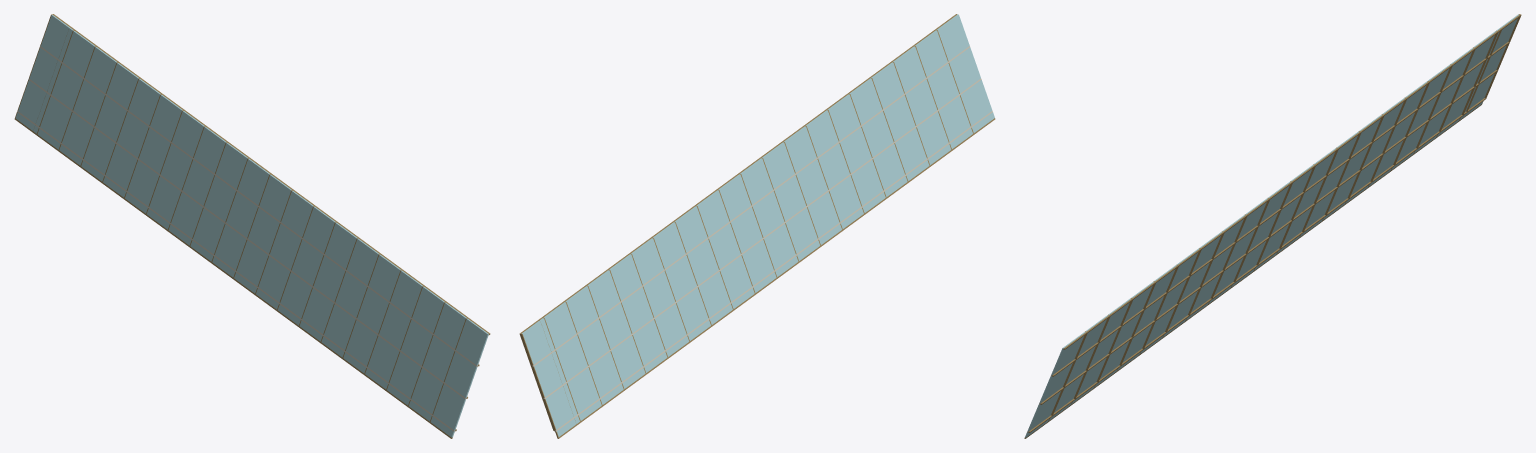
The model's file is G7_Completion_R008_Body_-1_02.glb.
3 renders of one model, left to right at view 1: azimuth 30°, elevation 25°; view 2: azimuth 150°, elevation 25°; view 3: azimuth 330°, elevation 25°, orthographic. The views are drawn at different scales.
Visible parts, largest first — view 1: Body_-1_02_G7C3_glass_solid_skin, Body_-1_02_G7C3_metal_solid_skin, Body_-1_02_G7C3_shell_solid_skin, Body_-1_02_G7C3_metal_solid_frame; view 2: Body_-1_02_G7C3_glass_solid_skin, Body_-1_02_G7C3_metal_solid_skin, Body_-1_02_G7C3_shell_solid_skin, Body_-1_02_G7C3_metal_solid_frame; view 3: Body_-1_02_G7C3_glass_solid_skin, Body_-1_02_G7C3_metal_solid_frame, Body_-1_02_G7C3_metal_solid_skin.
Boxes of the visible parts, left/top/right/bottom form: Body_-1_02_G7C3_glass_solid_skin: left=15, top=15, right=488, bottom=437; Body_-1_02_G7C3_metal_solid_skin: left=14, top=14, right=467, bottom=438; Body_-1_02_G7C3_shell_solid_skin: left=17, top=46, right=477, bottom=431; Body_-1_02_G7C3_metal_solid_frame: left=52, top=14, right=490, bottom=431; Body_-1_02_G7C3_glass_solid_skin: left=522, top=14, right=994, bottom=436; Body_-1_02_G7C3_metal_solid_skin: left=521, top=30, right=995, bottom=438; Body_-1_02_G7C3_shell_solid_skin: left=532, top=46, right=992, bottom=431; Body_-1_02_G7C3_metal_solid_frame: left=519, top=14, right=957, bottom=431; Body_-1_02_G7C3_glass_solid_skin: left=1025, top=14, right=1518, bottom=437; Body_-1_02_G7C3_metal_solid_frame: left=1028, top=14, right=1521, bottom=432; Body_-1_02_G7C3_metal_solid_skin: left=1024, top=14, right=1519, bottom=438.
Size of the model in its own units: 6.23 by 14.51 by 120.
3 materials, 2 textured.
